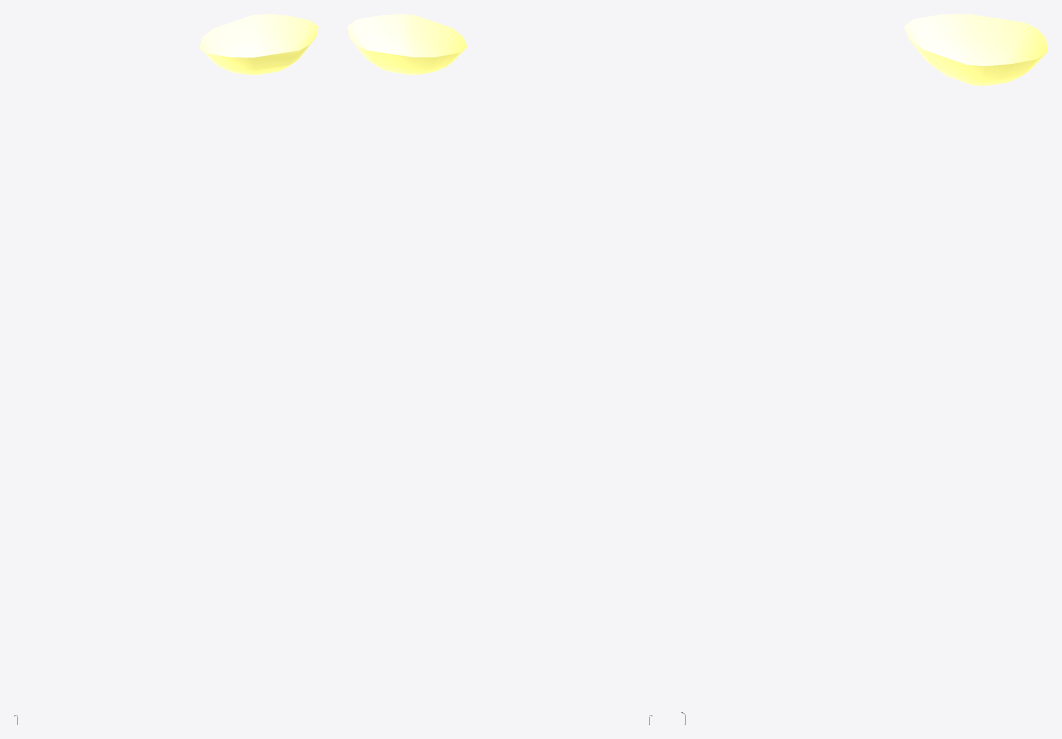
Rendered from street_lamp_single.glb.
3 views of the same model, side by side, from view 1: azimuth 30°, elevation 25°; view 2: azimuth 150°, elevation 25°; view 3: azimuth 330°, elevation 25° (orthographic). The views are drawn at different scales.
Visible parts, largest first — view 1: polySurface132.001_Material.004_0; view 2: polySurface132.001_Material.004_0; view 3: polySurface132.001_Material.004_0.
Part boxes in pixels (x1=…): polySurface132.001_Material.004_0: x1=199, y1=14, x2=318, y2=74; polySurface132.001_Material.004_0: x1=347, y1=14, x2=467, y2=74; polySurface132.001_Material.004_0: x1=903, y1=14, x2=1047, y2=85.
Size of the model in its own units: 259 by 519 by 71.94.
Materials: 3 (1 with a texture image).
